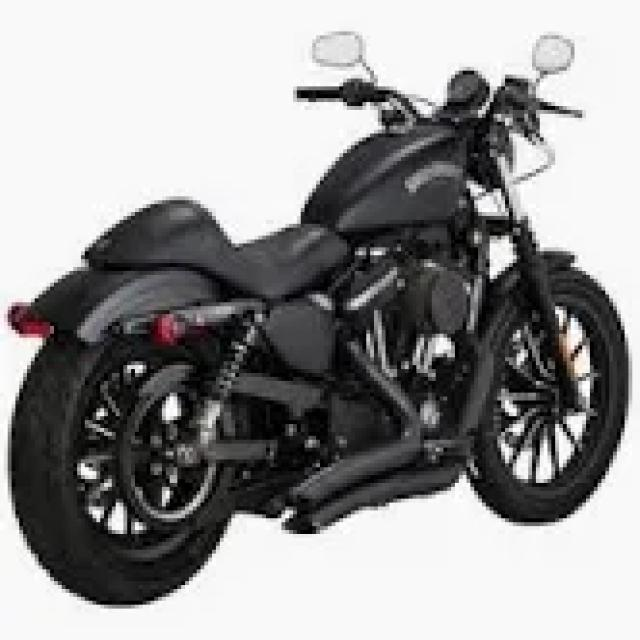motorcycle: (4, 28, 628, 604)
